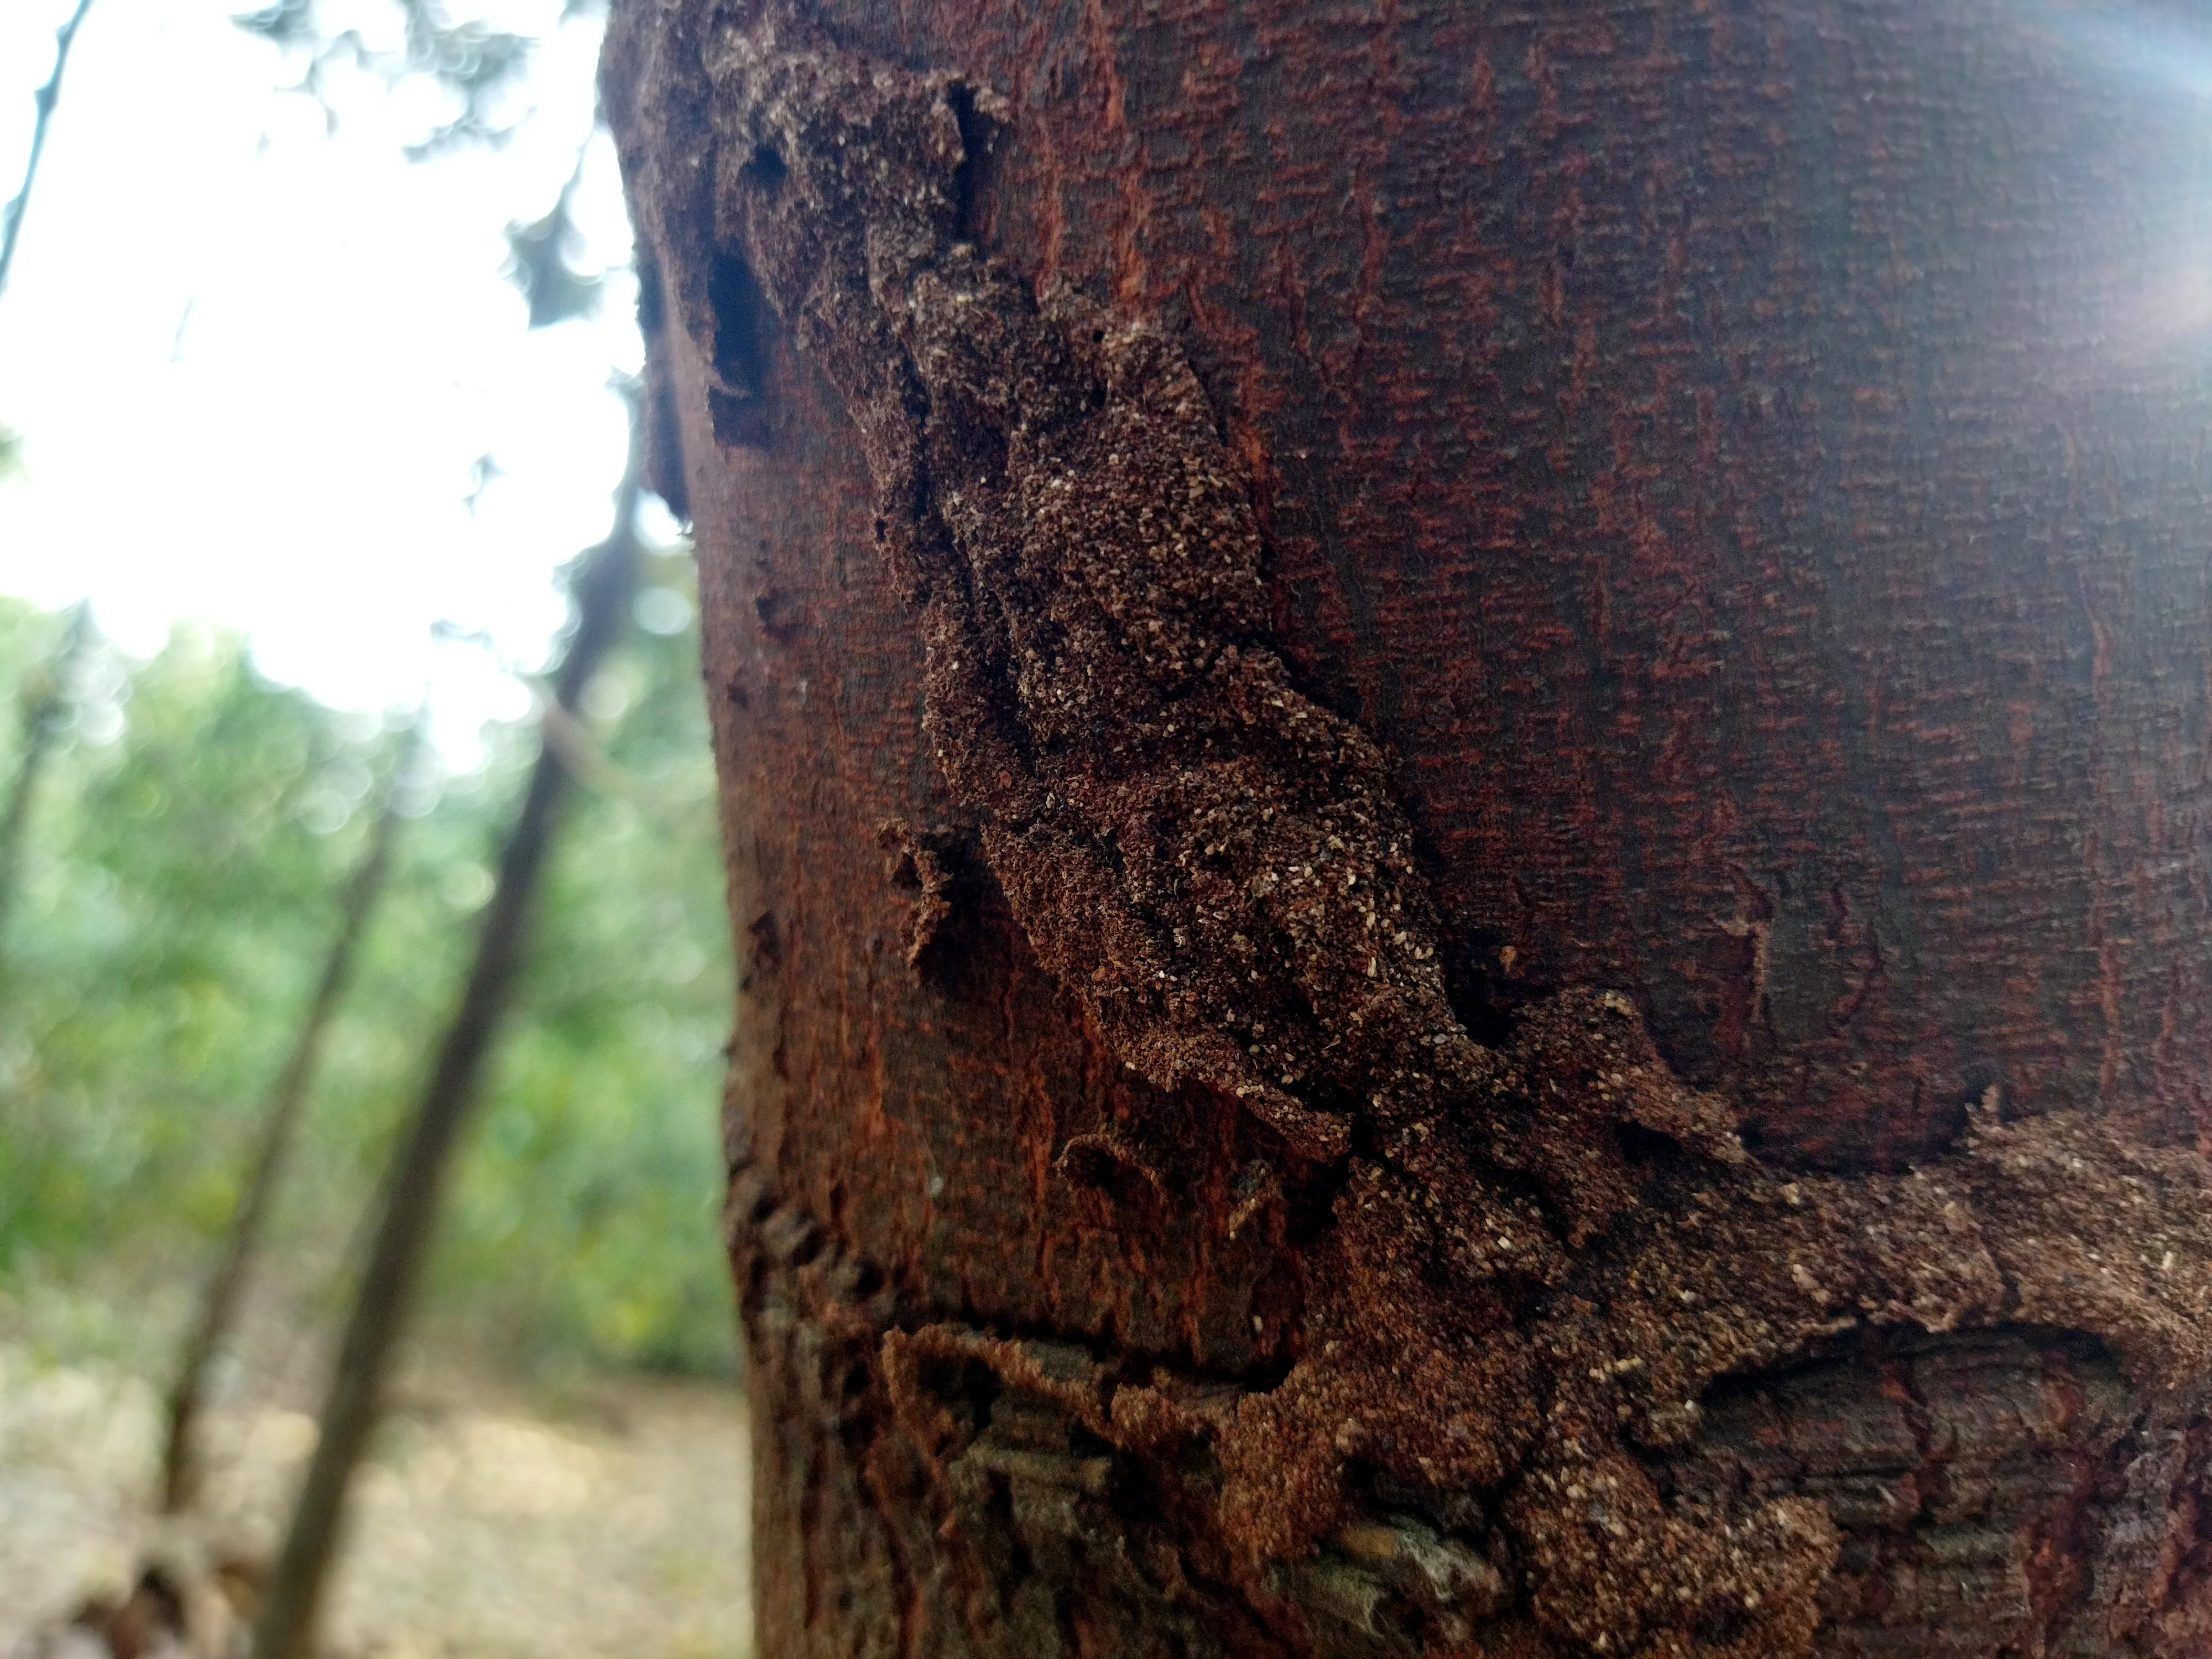Termite - Nest: (643, 2, 2212, 1659)
